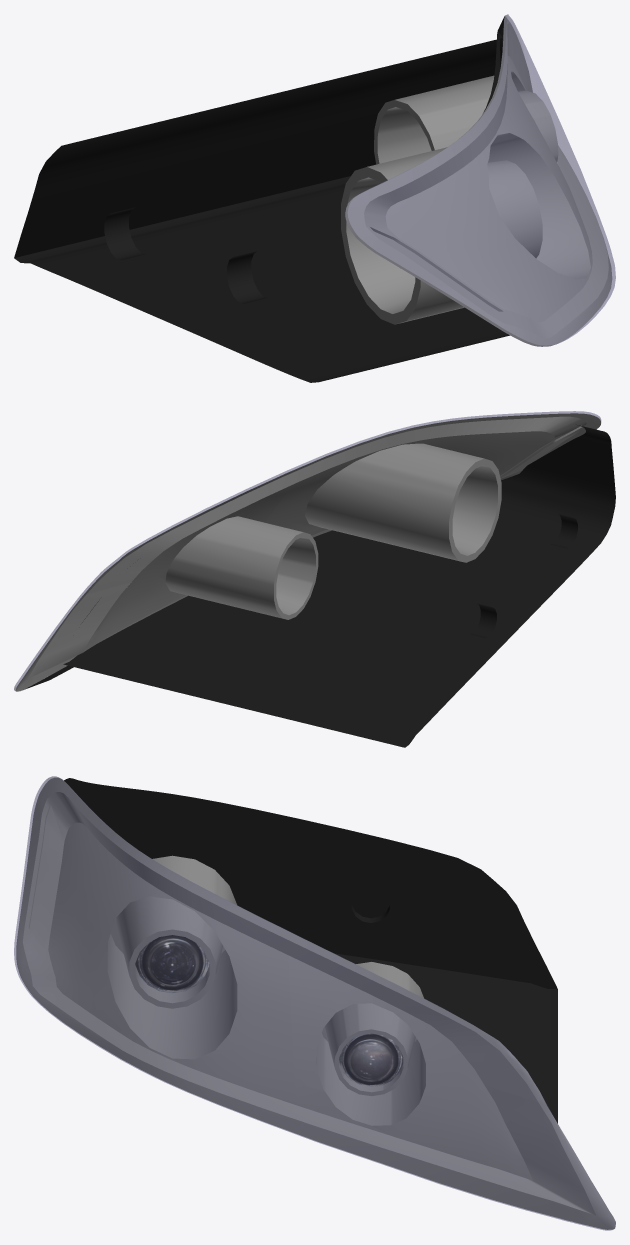
3 renders of one model, top to bottom at view 1: azimuth 30°, elevation 25°; view 2: azimuth 150°, elevation 25°; view 3: azimuth 270°, elevation 25°, orthographic. The views are drawn at different scales.
Visible parts, largest first — view 1: LX24_061B_R_LX24_061B_R_2_D, LX24_061B_R_1_DaS_LX24_061B_R, LX24_061B_R_LX24_061B_R_5_DTaSI; view 2: LX24_061B_R_LX24_061B_R_2_D, LX24_061B_R_1_DaS_LX24_061B_R, LX24_061B_R_LX24_061B_R_5_DTaSI; view 3: LX24_061B_R_LX24_061B_R_5_DTaSI, LX24_061B_R_1_DaS_LX24_061B_R, LX24_061B_R_LX24_061B_R_2_D, LX24_061B_R_LX24_061B_R_4_N, LX24_061B_R_LX24_061B_R_3_N.
Boxes of the visible parts, x1,y1,x2,y2 form: LX24_061B_R_LX24_061B_R_2_D: (14, 16, 509, 382); LX24_061B_R_1_DaS_LX24_061B_R: (341, 16, 612, 346); LX24_061B_R_LX24_061B_R_5_DTaSI: (345, 14, 615, 346); LX24_061B_R_LX24_061B_R_2_D: (24, 424, 615, 747); LX24_061B_R_1_DaS_LX24_061B_R: (15, 413, 600, 691); LX24_061B_R_LX24_061B_R_5_DTaSI: (14, 411, 601, 690); LX24_061B_R_LX24_061B_R_5_DTaSI: (14, 776, 615, 1230); LX24_061B_R_1_DaS_LX24_061B_R: (16, 777, 615, 1229); LX24_061B_R_LX24_061B_R_2_D: (64, 778, 557, 1123); LX24_061B_R_LX24_061B_R_4_N: (135, 935, 209, 993); LX24_061B_R_LX24_061B_R_3_N: (339, 1033, 403, 1086).
Bounding box in the file's own units: 56 × 28.5 × 62.96.
